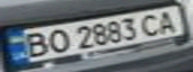2: (72, 22, 96, 51)
3: (118, 15, 142, 42)
8: (90, 20, 112, 47), (106, 17, 127, 44)
A: (151, 8, 181, 34)
B: (15, 29, 54, 58)
C: (136, 11, 166, 37)
O: (42, 27, 72, 54)
